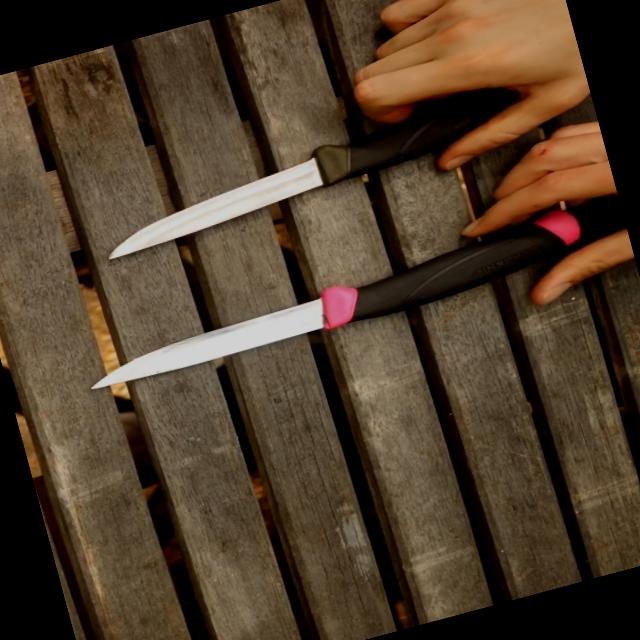knife: (69, 39, 486, 272), (69, 255, 432, 407)
